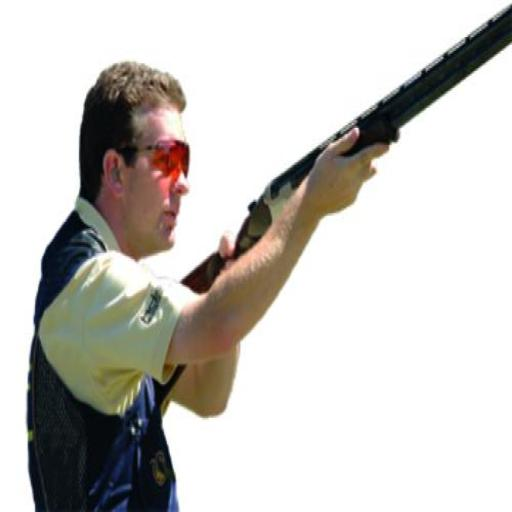shooting: (25, 57, 396, 511)
